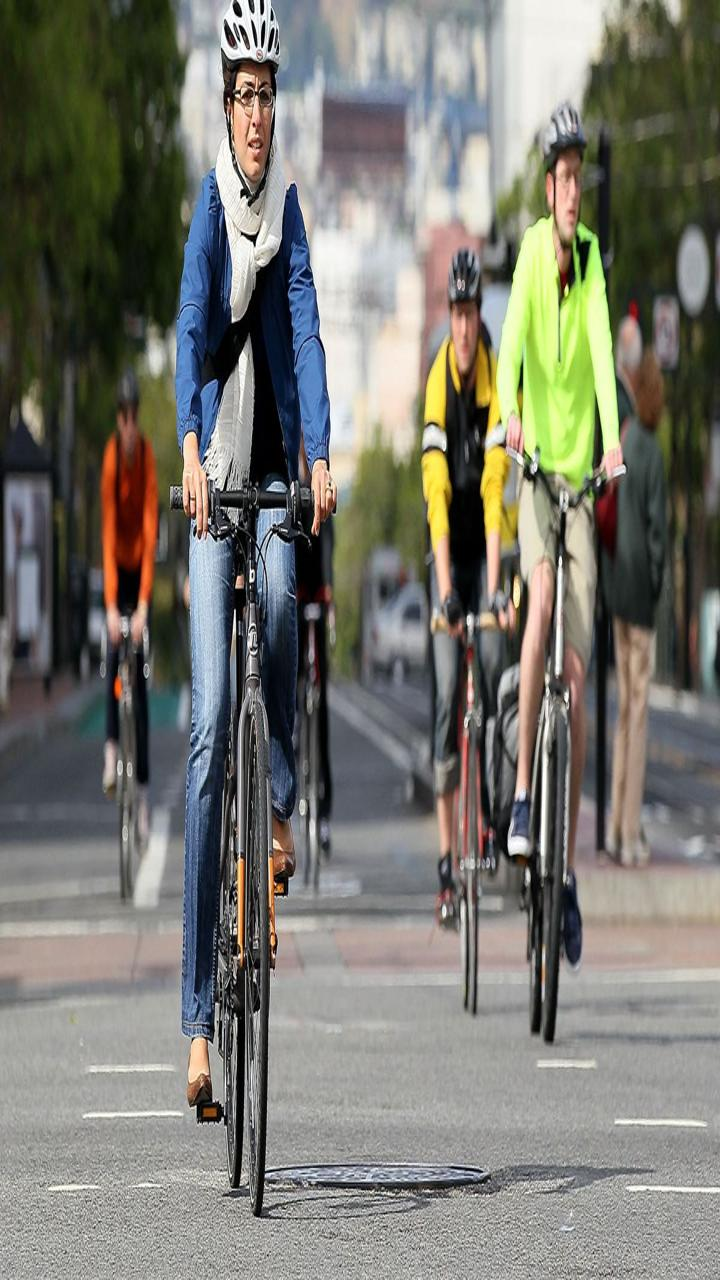bicycle: (147, 460, 331, 1219), (480, 435, 646, 1052), (428, 493, 500, 1021)
cyclist: (175, 7, 318, 1117), (489, 78, 632, 956), (402, 225, 526, 921), (67, 340, 182, 905)
